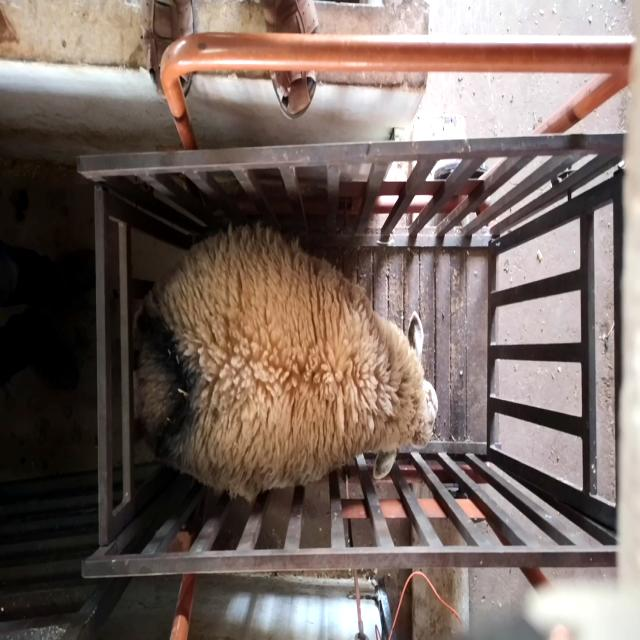sheep: (136, 225, 439, 501)
